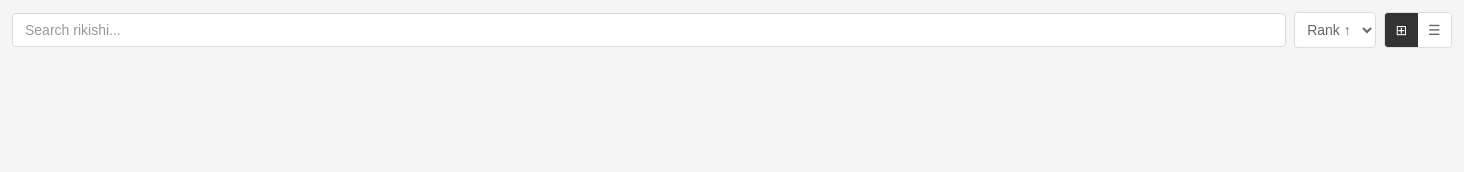
BanzukeTab › shows clear button when search has text
This screenshot has width=1464, height=172.
Type "x" into the field with placeholder "Search rikishi..." at coordinates (649, 30), box left=12, top=13, right=1286, bottom=47
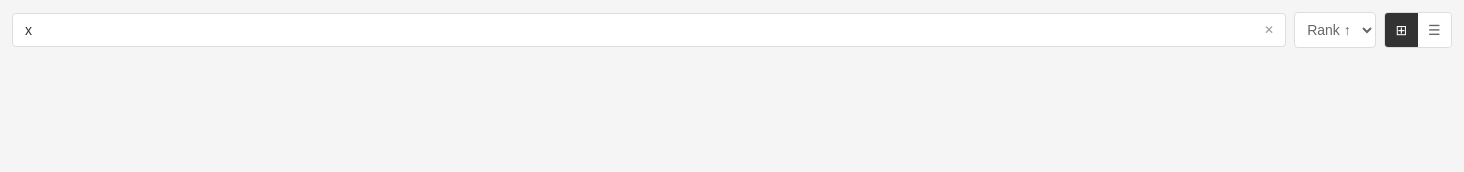
Result: the button named "Clear search" is shown at left=1260, top=20, right=1278, bottom=40
